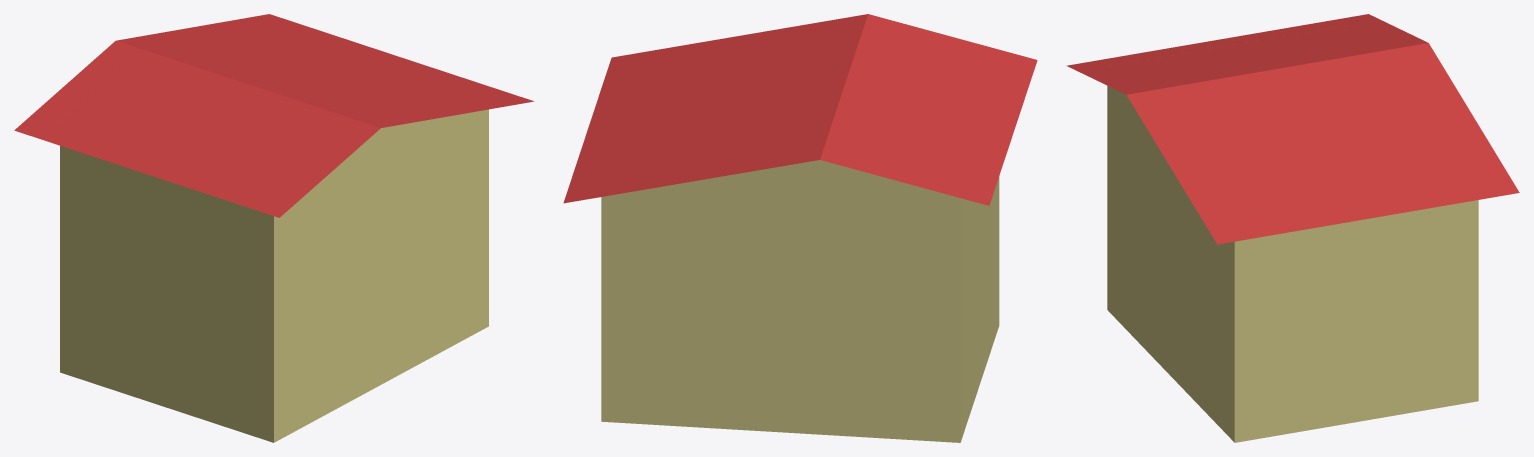
3 views of the same model, side by side, from view 1: azimuth 30°, elevation 25°; view 2: azimuth 150°, elevation 25°; view 3: azimuth 270°, elevation 25° (orthographic). The views are drawn at different scales.
Size of the model in its own units: 11.75 by 10.75 by 7.08.
